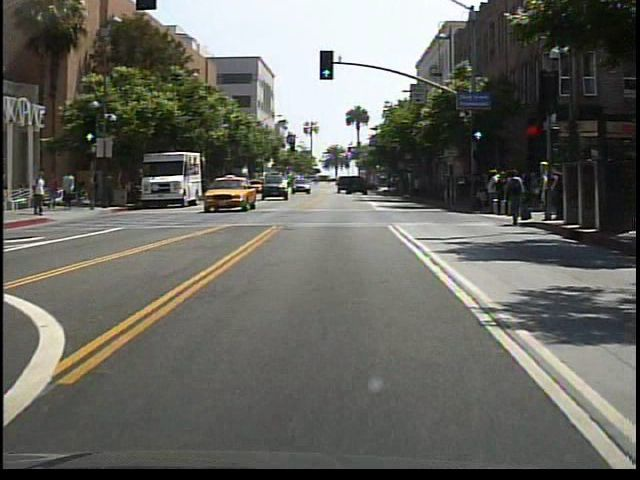person: (502, 166, 527, 225), (33, 168, 50, 217), (62, 168, 79, 212), (103, 168, 119, 208), (48, 173, 63, 210), (91, 170, 103, 207)
